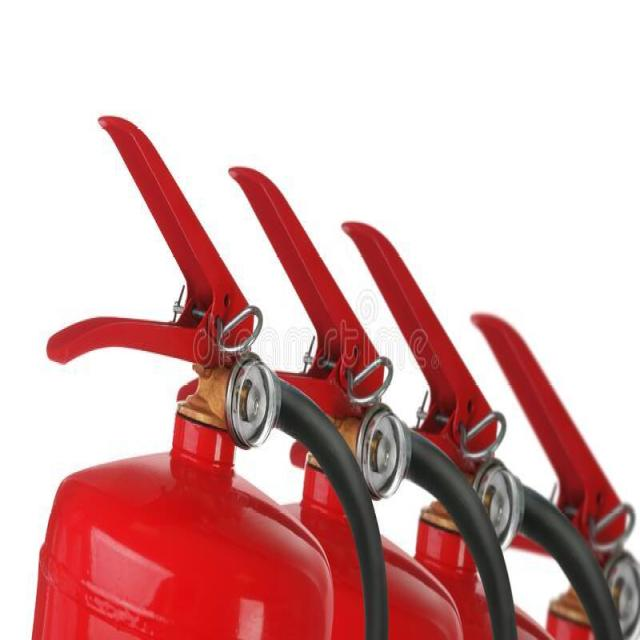fire_extinguisher: (25, 106, 392, 639), (186, 160, 520, 638), (323, 209, 638, 639), (438, 308, 638, 639)
